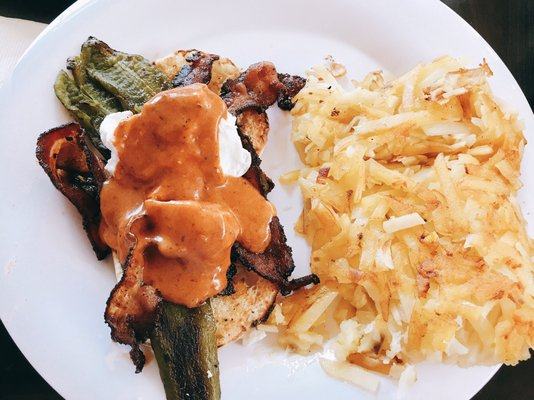soup: (83, 75, 302, 396)
